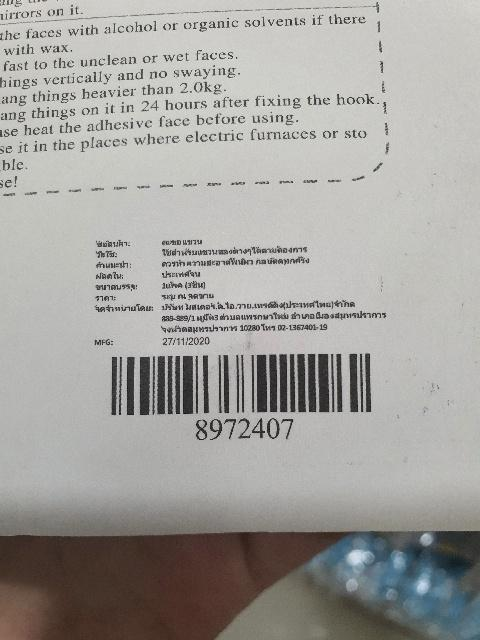Barcode: (98, 348, 386, 447)
